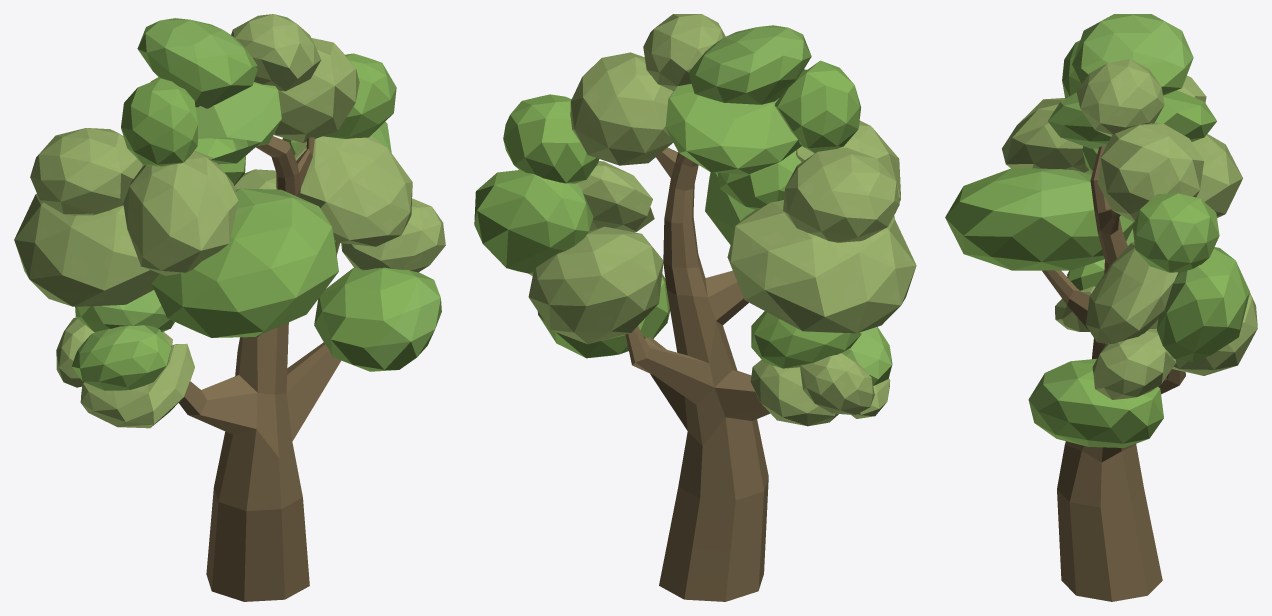
Rendered from tree2.obj.
3 views of the same model, side by side, from view 1: azimuth 30°, elevation 25°; view 2: azimuth 150°, elevation 25°; view 3: azimuth 270°, elevation 25° (orthographic). The views are drawn at different scales.
Parts seen in each view (by area): view 1: Oak_Tree; view 2: Oak_Tree; view 3: Oak_Tree.
Part boxes in pixels (x1,y1,x2,y2): Oak_Tree: (14, 14, 445, 601); Oak_Tree: (474, 14, 916, 601); Oak_Tree: (945, 14, 1257, 601).
Size of the model in its own units: 3.96 by 5.31 by 2.84.
1 material, 1 textured.
